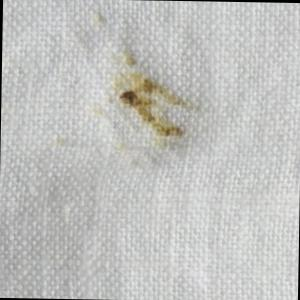Oil Stain: (48, 8, 206, 178)
